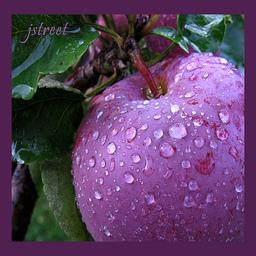apple: (71, 54, 244, 241)
